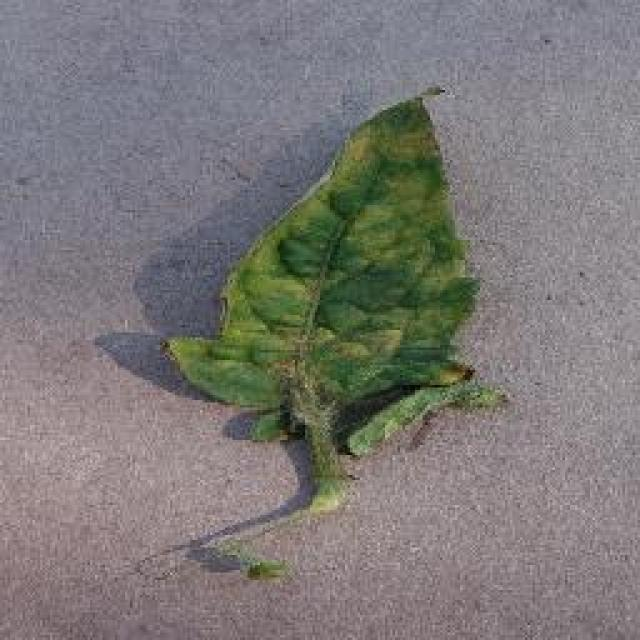Tomato___Leaf_Mold: (162, 88, 502, 510)
